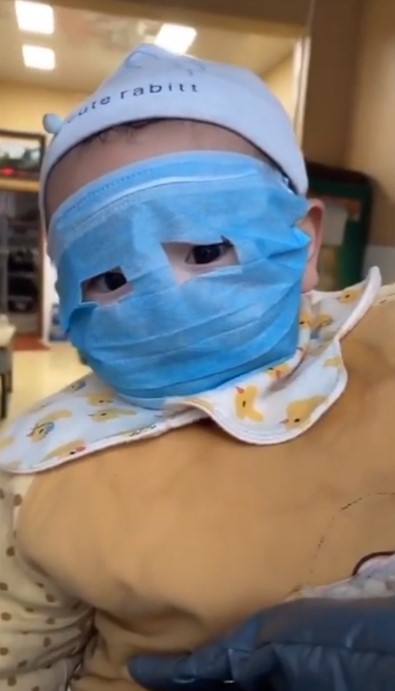face_with_mask: (40, 47, 328, 402)
